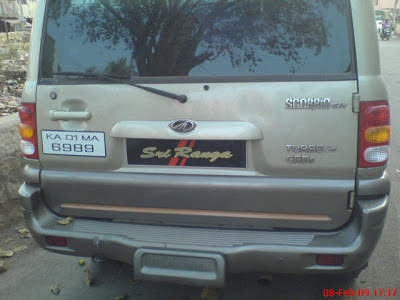number_plate: (39, 129, 108, 157)
